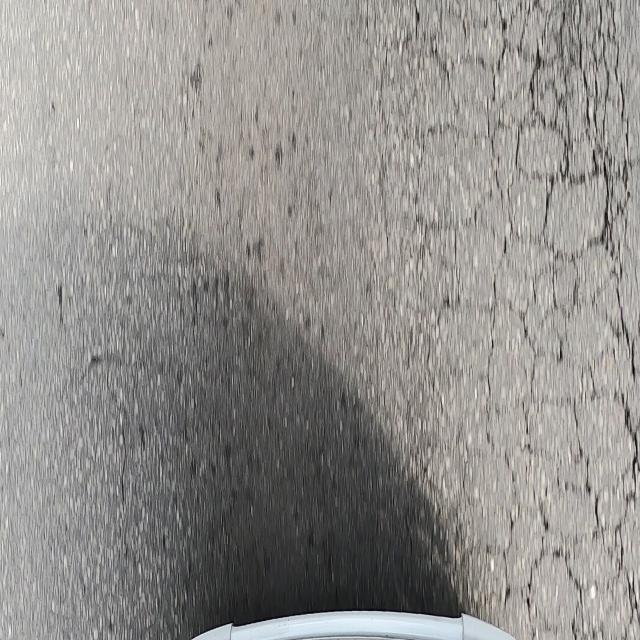Retak-Buaya: (412, 0, 640, 640)
